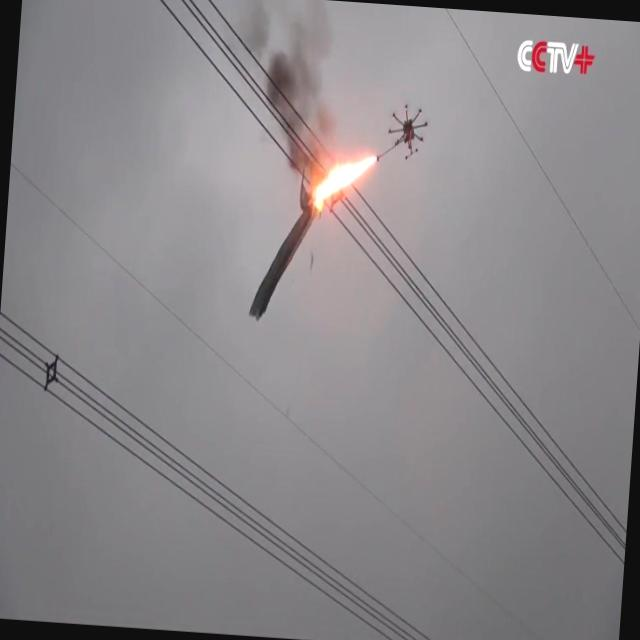drone: (384, 98, 432, 160)
